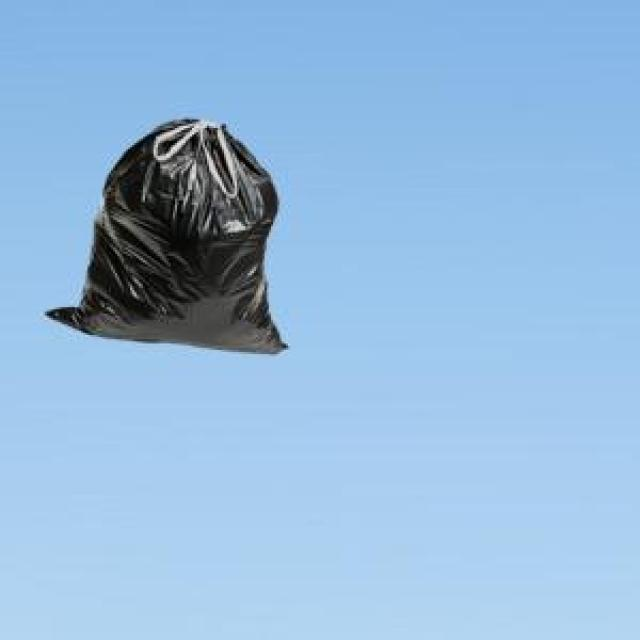miscellaneous trash: (43, 115, 284, 350)
